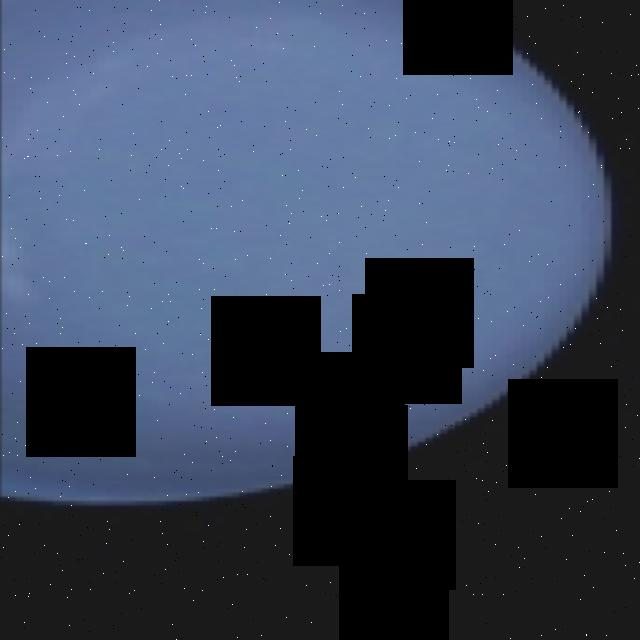Neptune: (0, 0, 610, 506)
